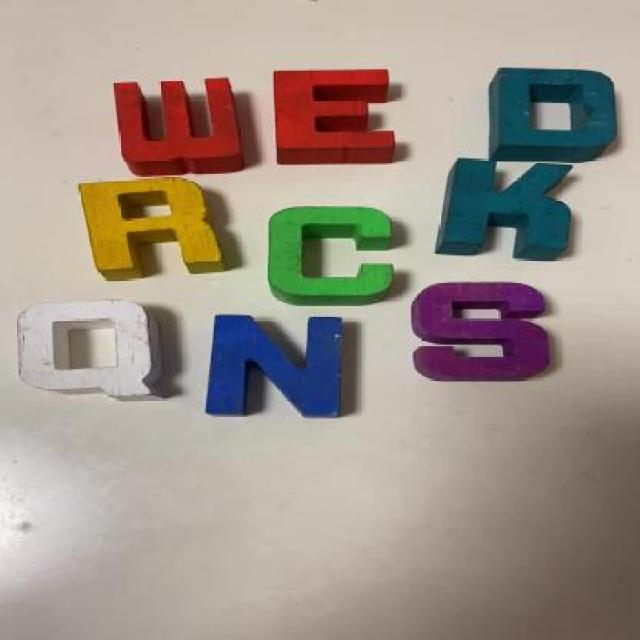C: (271, 206, 391, 302)
D: (480, 72, 628, 162)
E: (275, 70, 399, 162)
K: (444, 157, 582, 260)
N: (200, 312, 354, 414)
Q: (19, 298, 164, 402)
R: (84, 178, 225, 276)
S: (412, 283, 558, 382)
W: (120, 78, 240, 168)
